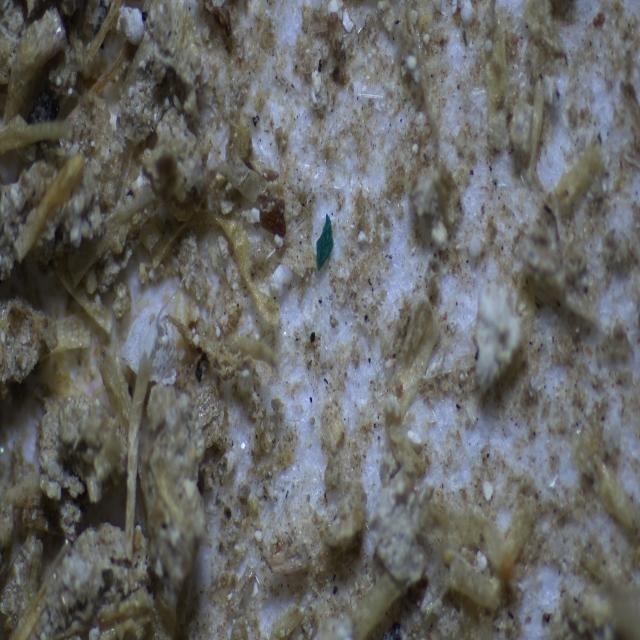microplastic: (308, 212, 343, 273)
